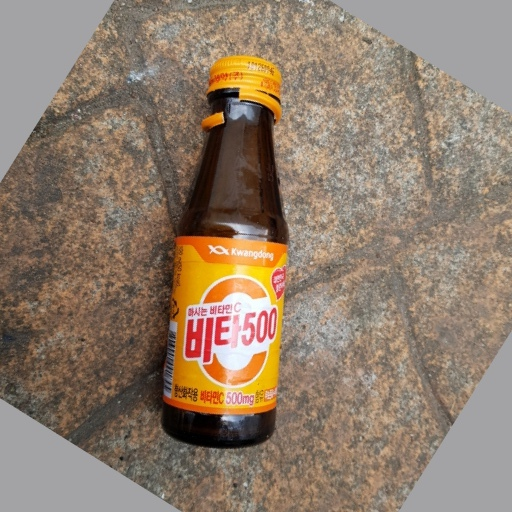Glass_3: (151, 53, 292, 448)
